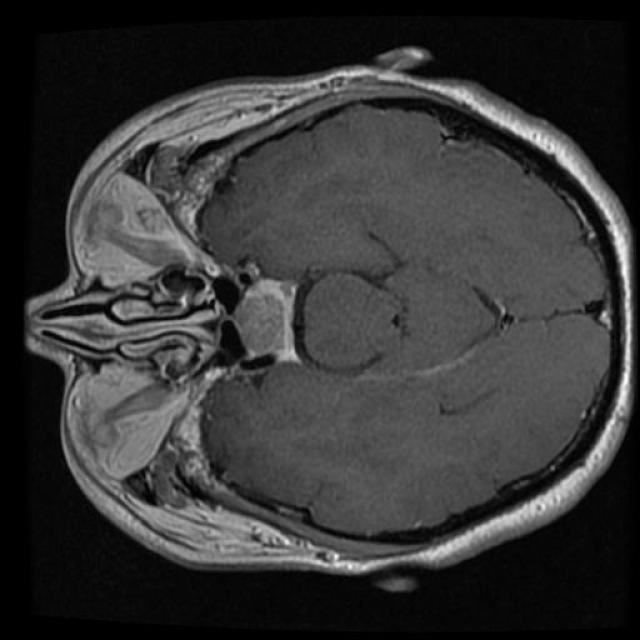Pituitary: (231, 259, 301, 387)
